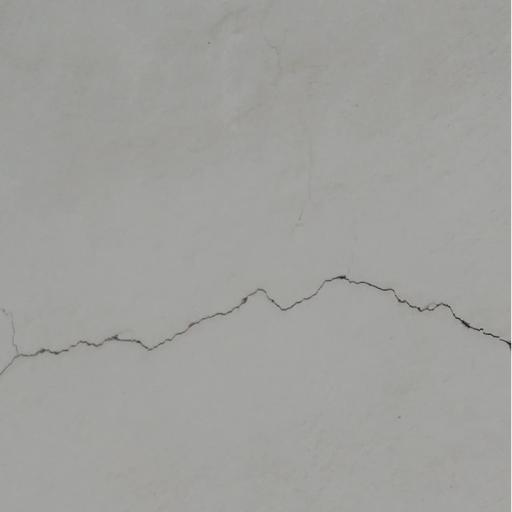major_crack: (0, 265, 512, 384)
